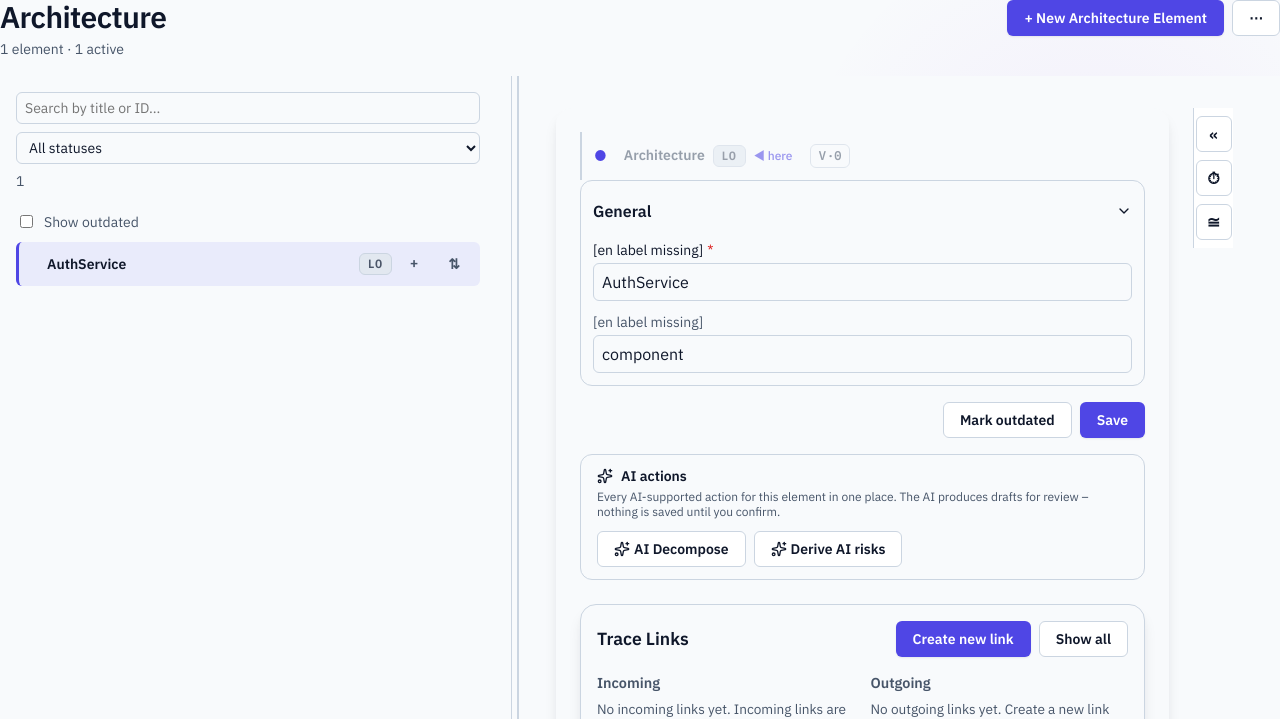
Test: ArchitectureEditors (COMP-RF-004 / REQ-L2-RF-004) › shows the deprecate confirmation dialog before marking outdated (ADR-L3-RF-008)
The image size is (1280, 719).
Click the button with test id "artifact-form-deprecate": (1007, 420) [943,402,1072,438]
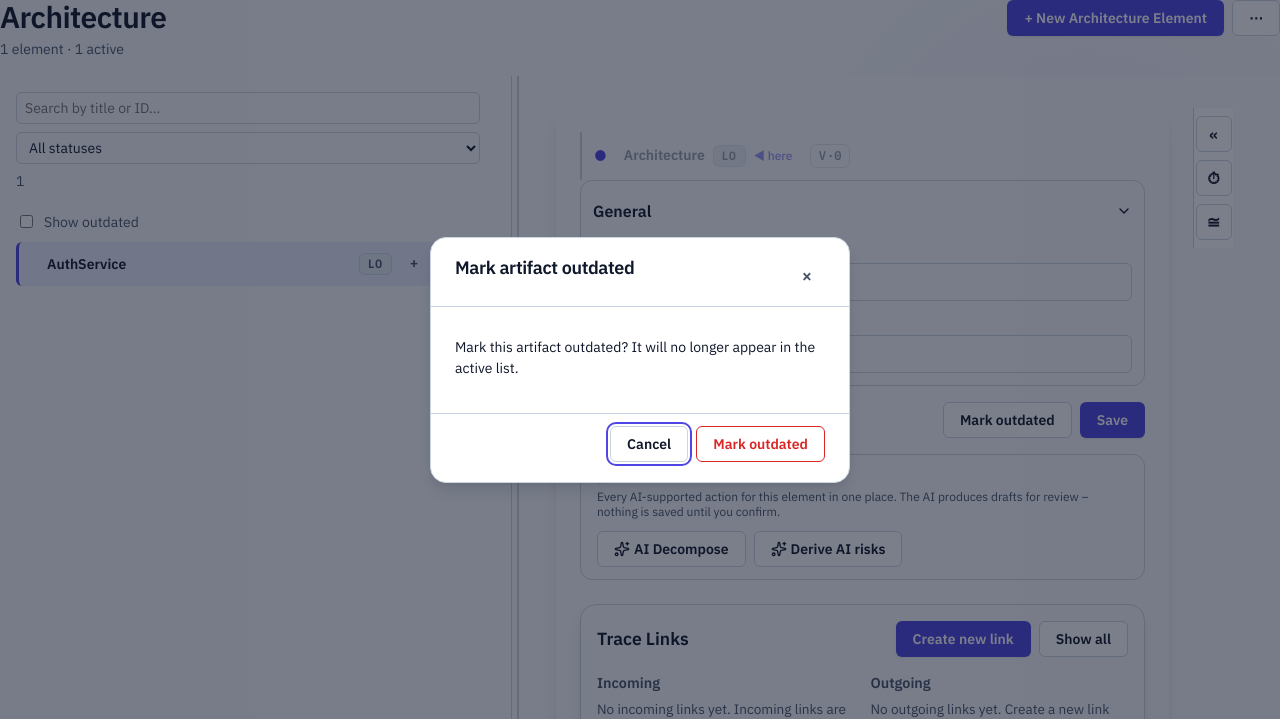
Check: the dialog is shown, box [430,237,850,483]
Check: the button with test id "artifact-form-deprecate-confirm" is shown, box [696,426,825,462]
